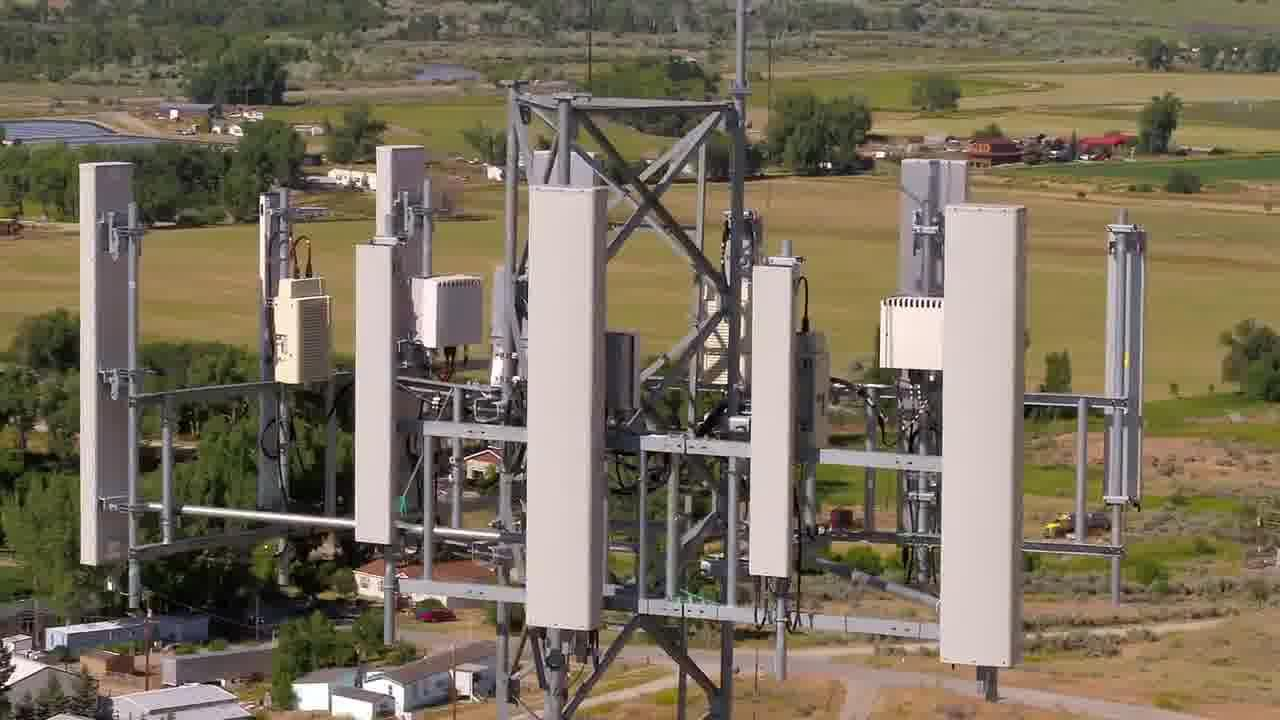antenna: (936, 190, 1035, 679), (524, 178, 614, 643), (76, 149, 144, 578), (893, 143, 971, 482), (744, 258, 809, 596), (345, 236, 412, 559), (373, 139, 447, 372), (1104, 208, 1156, 526)
